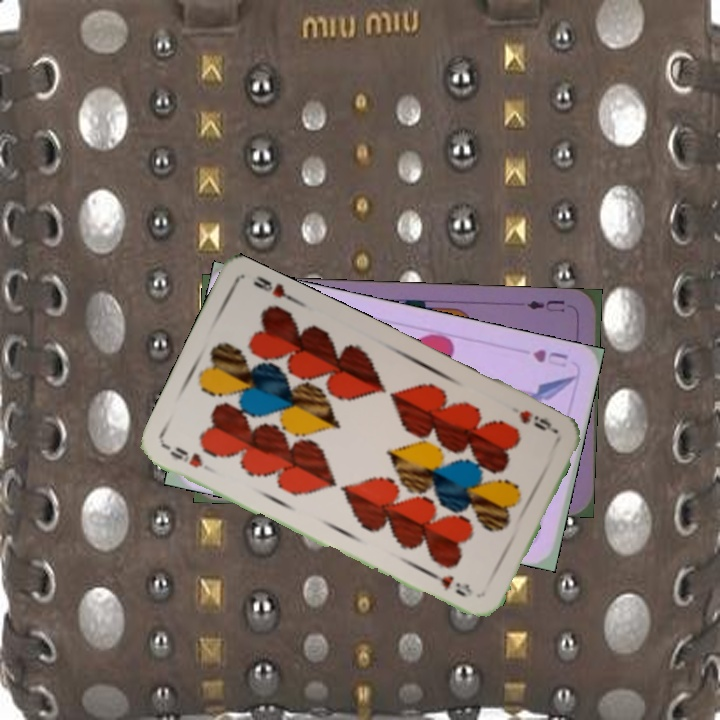EU: (523, 295, 567, 315)
H9: (162, 441, 206, 471), (515, 406, 558, 436)
HU: (529, 345, 571, 370)
